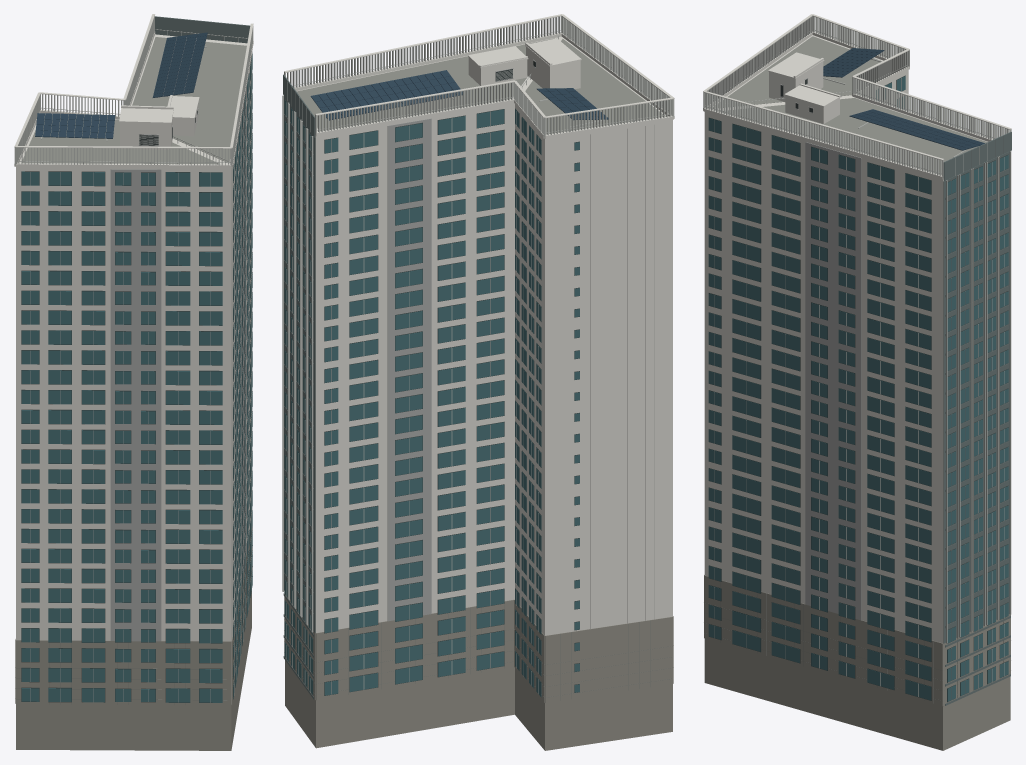
File: bespoke-maple-xi-212.glb
3 renders of one model, left to right at view 1: azimuth 30°, elevation 25°; view 2: azimuth 150°, elevation 25°; view 3: azimuth 270°, elevation 25°, orthographic. The views are drawn at different scales.
Visible parts, largest first — view 1: 212_e0_window_glass, 212_wing_0_observed_massing, 212_unverified_solid_ground_mass, 212_e0_blank_wall_joints, 212_e0_individually_sized_reveals, 212_wing_0_service_roof, 212_wing_0_roof_rail, 212_individual_roof_panel_array_0, 212_e3_paint_zone_graphite, 212_e0_stone_vertical_joints; view 2: 212_wing_0_observed_massing, 212_e0_window_glass, 212_unverified_solid_ground_mass, 212_wing_0_roof_rail, 212_e0_blank_wall_joints, 212_e0_individually_sized_reveals, 212_e3_paint_zone_graphite, 212_wing_0_service_roof, 212_individual_roof_panel_array_0, 212_e0_stone_vertical_joints; view 3: 212_e0_window_glass, 212_wing_0_observed_massing, 212_wing_0_roof_rail, 212_unverified_solid_ground_mass, 212_e0_blank_wall_joints, 212_e3_paint_zone_graphite, 212_e0_individually_sized_reveals, 212_wing_0_service_roof, 212_individual_roof_panel_array_0, 212_e0_stone_vertical_joints.
Part boxes in pixels (x1,y1,x2,y2): 212_e0_window_glass: (21,54,252,702); 212_wing_0_observed_massing: (14,14,253,704); 212_unverified_solid_ground_mass: (15,526,252,750); 212_e0_blank_wall_joints: (110,90,245,641); 212_e0_individually_sized_reveals: (21,54,252,702); 212_wing_0_service_roof: (21,37,246,164); 212_wing_0_roof_rail: (14,16,253,702); 212_individual_roof_panel_array_0: (35,32,207,138); 212_e3_paint_zone_graphite: (155,16,252,510); 212_e0_stone_vertical_joints: (16,538,252,704); 212_wing_0_observed_massing: (284,14,674,702); 212_e0_window_glass: (284,100,579,696); 212_unverified_solid_ground_mass: (284,591,673,750); 212_wing_0_roof_rail: (282,16,674,694); 212_e0_blank_wall_joints: (387,59,654,628); 212_e0_individually_sized_reveals: (285,61,579,697); 212_e3_paint_zone_graphite: (283,74,315,699); 212_wing_0_service_roof: (296,38,665,134); 212_individual_roof_panel_array_0: (310,70,608,120); 212_e0_stone_vertical_joints: (284,604,672,700); 212_e0_window_glass: (708,76,1008,701); 212_wing_0_observed_massing: (703,14,1011,705); 212_wing_0_roof_rail: (703,16,1011,699); 212_unverified_solid_ground_mass: (704,575,1010,750); 212_e0_blank_wall_joints: (780,78,861,620); 212_e3_paint_zone_graphite: (943,131,1011,705); 212_e0_individually_sized_reveals: (708,75,1008,702); 212_wing_0_service_roof: (713,36,987,174); 212_individual_roof_panel_array_0: (823,48,984,150); 212_e0_stone_vertical_joints: (704,582,1010,703).
Size of the model in its own units: 49.47 by 94.98 by 44.21.
